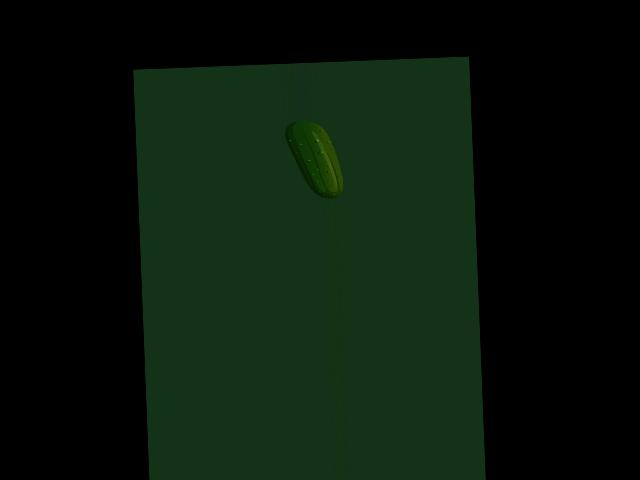cucumber: (284, 119, 343, 200)
